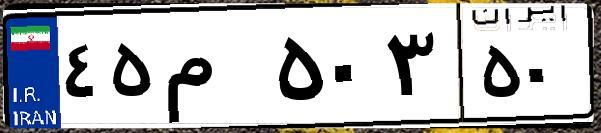0: (330, 28, 385, 110), (525, 38, 570, 115)
3: (385, 28, 445, 110)
4: (57, 26, 110, 100)
5: (270, 28, 330, 110), (475, 38, 525, 113), (110, 28, 158, 98)
م: (158, 20, 270, 120)
